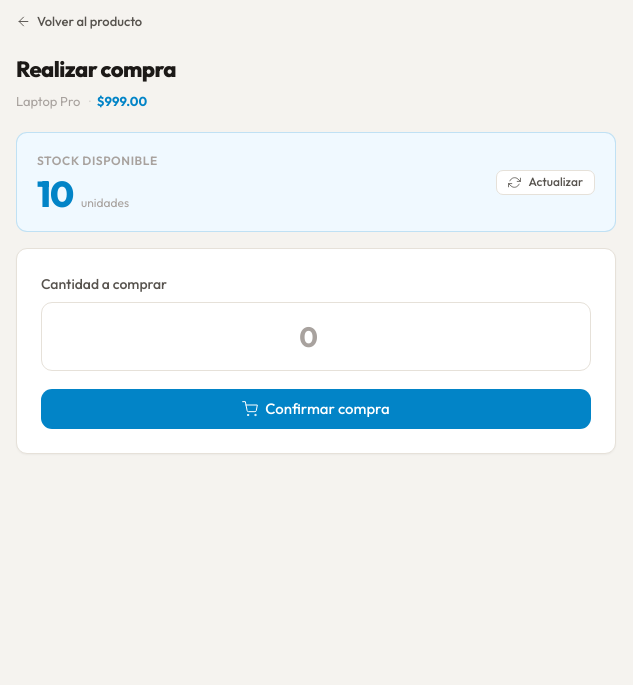
Test case: PurchaseView › muestra error 409 stock insuficiente
Type "2" into the number field labelled "Cantidad a comprar" at (316,336), box [41,302,591,371]
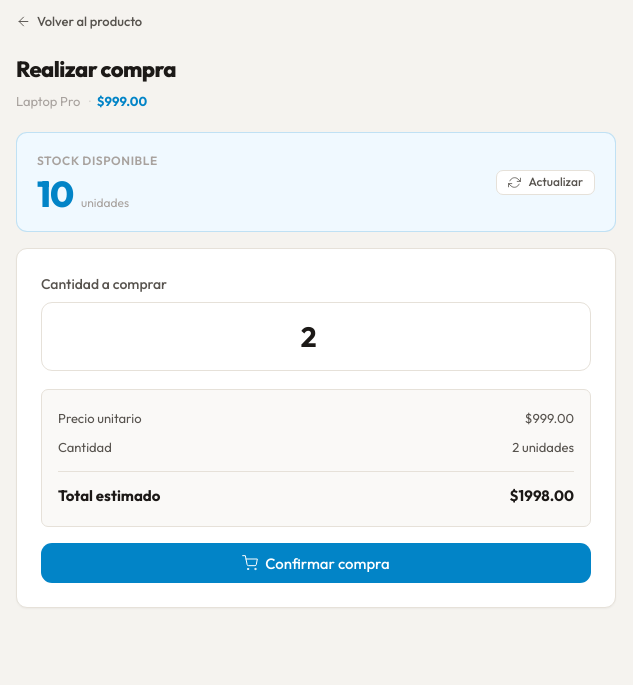
Submit the form, box [41,273,591,583]
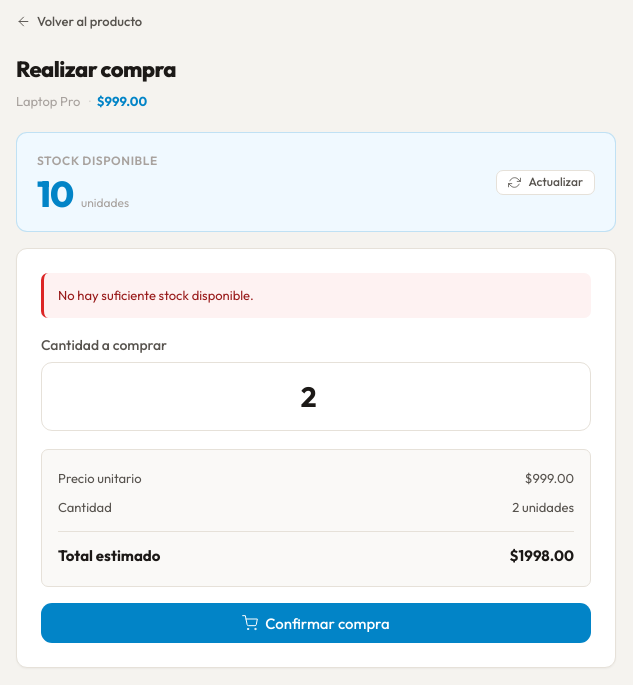
Now the text "No hay suficiente stock disponible" is shown, box [58,287,254,303]
